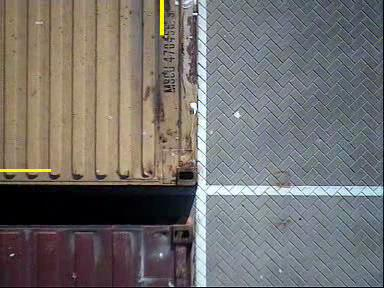groundmarker_2: (23, 115, 108, 241)
